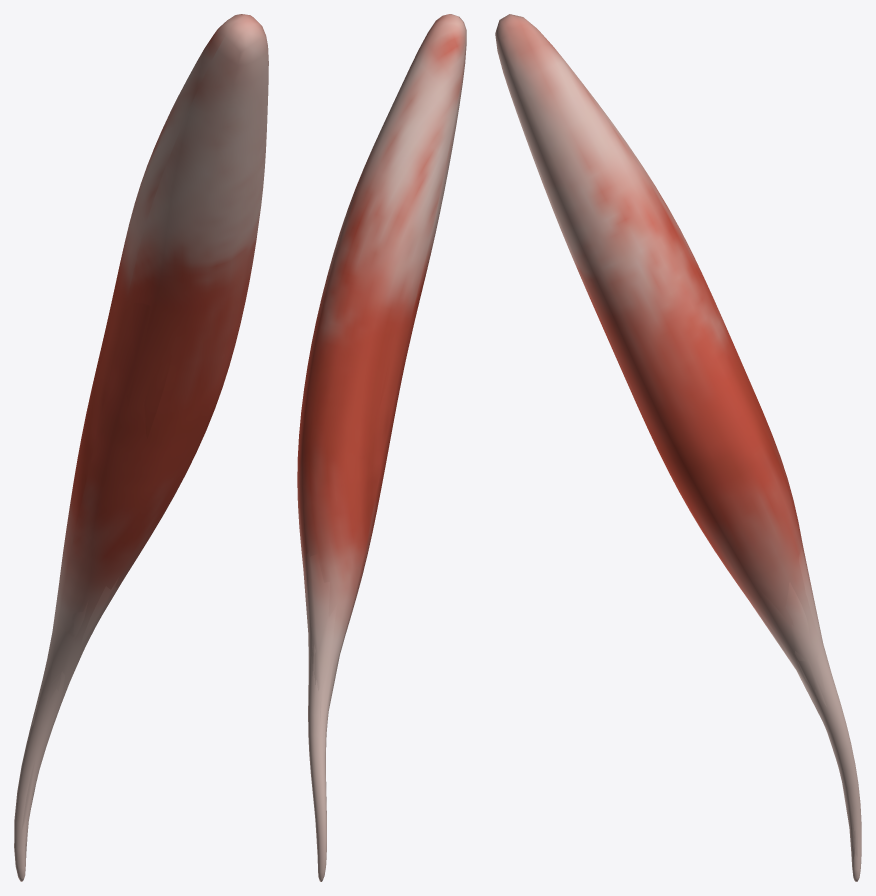
Rendered from L extensor digitorum lateralis.fbx.
3 renders of one model, left to right at view 1: azimuth 30°, elevation 25°; view 2: azimuth 150°, elevation 25°; view 3: azimuth 270°, elevation 25°, orthographic. The views are drawn at different scales.
Visible parts, largest first — view 1: L extensor digitorum lateralis, L extensor digitorum lateralis low; view 2: L extensor digitorum lateralis, L extensor digitorum lateralis low; view 3: L extensor digitorum lateralis, L extensor digitorum lateralis low.
Boxes of the visible parts, <box> form: L extensor digitorum lateralis: <box>14,14,268,881</box>; L extensor digitorum lateralis low: <box>21,303,177,858</box>; L extensor digitorum lateralis: <box>297,14,466,881</box>; L extensor digitorum lateralis low: <box>303,308,417,854</box>; L extensor digitorum lateralis: <box>495,14,861,881</box>; L extensor digitorum lateralis low: <box>748,543,857,860</box>.
Bounding box in the file's own units: 2.33 × 19.22 × 7.28.
